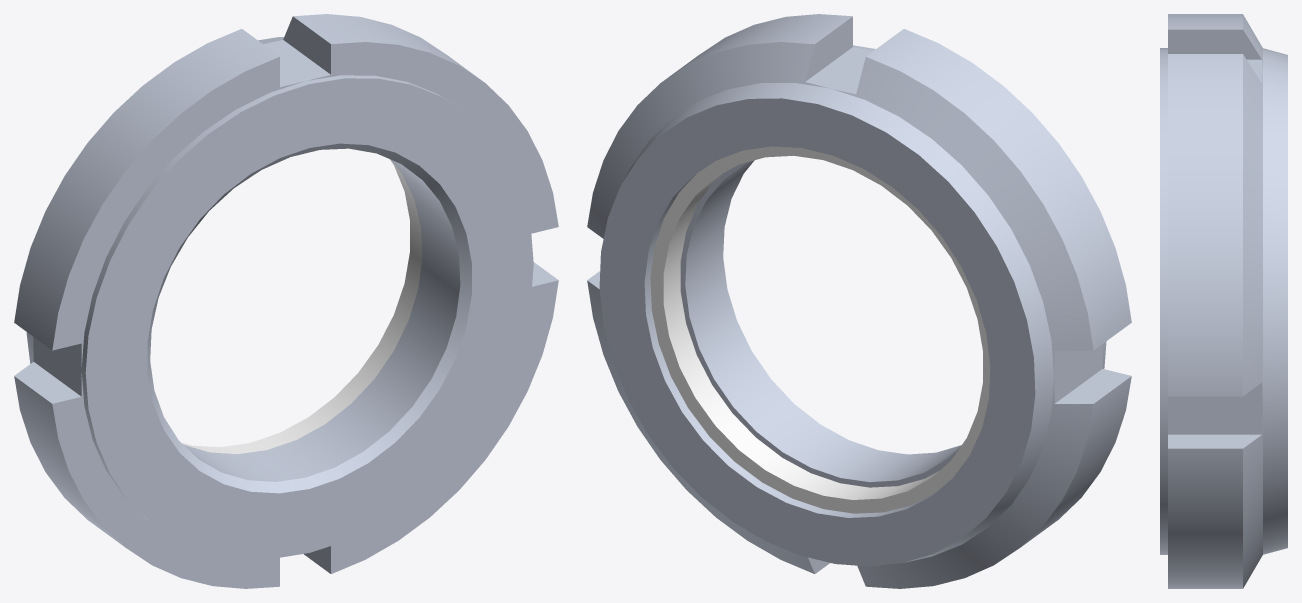
File: Nuttmutter.fbx
3 renders of one model, left to right at view 1: azimuth 30°, elevation 25°; view 2: azimuth 150°, elevation 25°; view 3: azimuth 270°, elevation 25°, orthographic. The views are drawn at different scales.
Visible parts, largest first — view 1: gn_1804_1-m32x1_5; view 2: gn_1804_1-m32x1_5; view 3: gn_1804_1-m32x1_5.
Boxes of the visible parts, box(x1,y1,x2,y2) form: gn_1804_1-m32x1_5: box(14, 14, 558, 588); gn_1804_1-m32x1_5: box(587, 14, 1131, 588); gn_1804_1-m32x1_5: box(1160, 14, 1287, 588).
Bounding box in the file's own units: 1.96 × 1.96 × 0.437.
